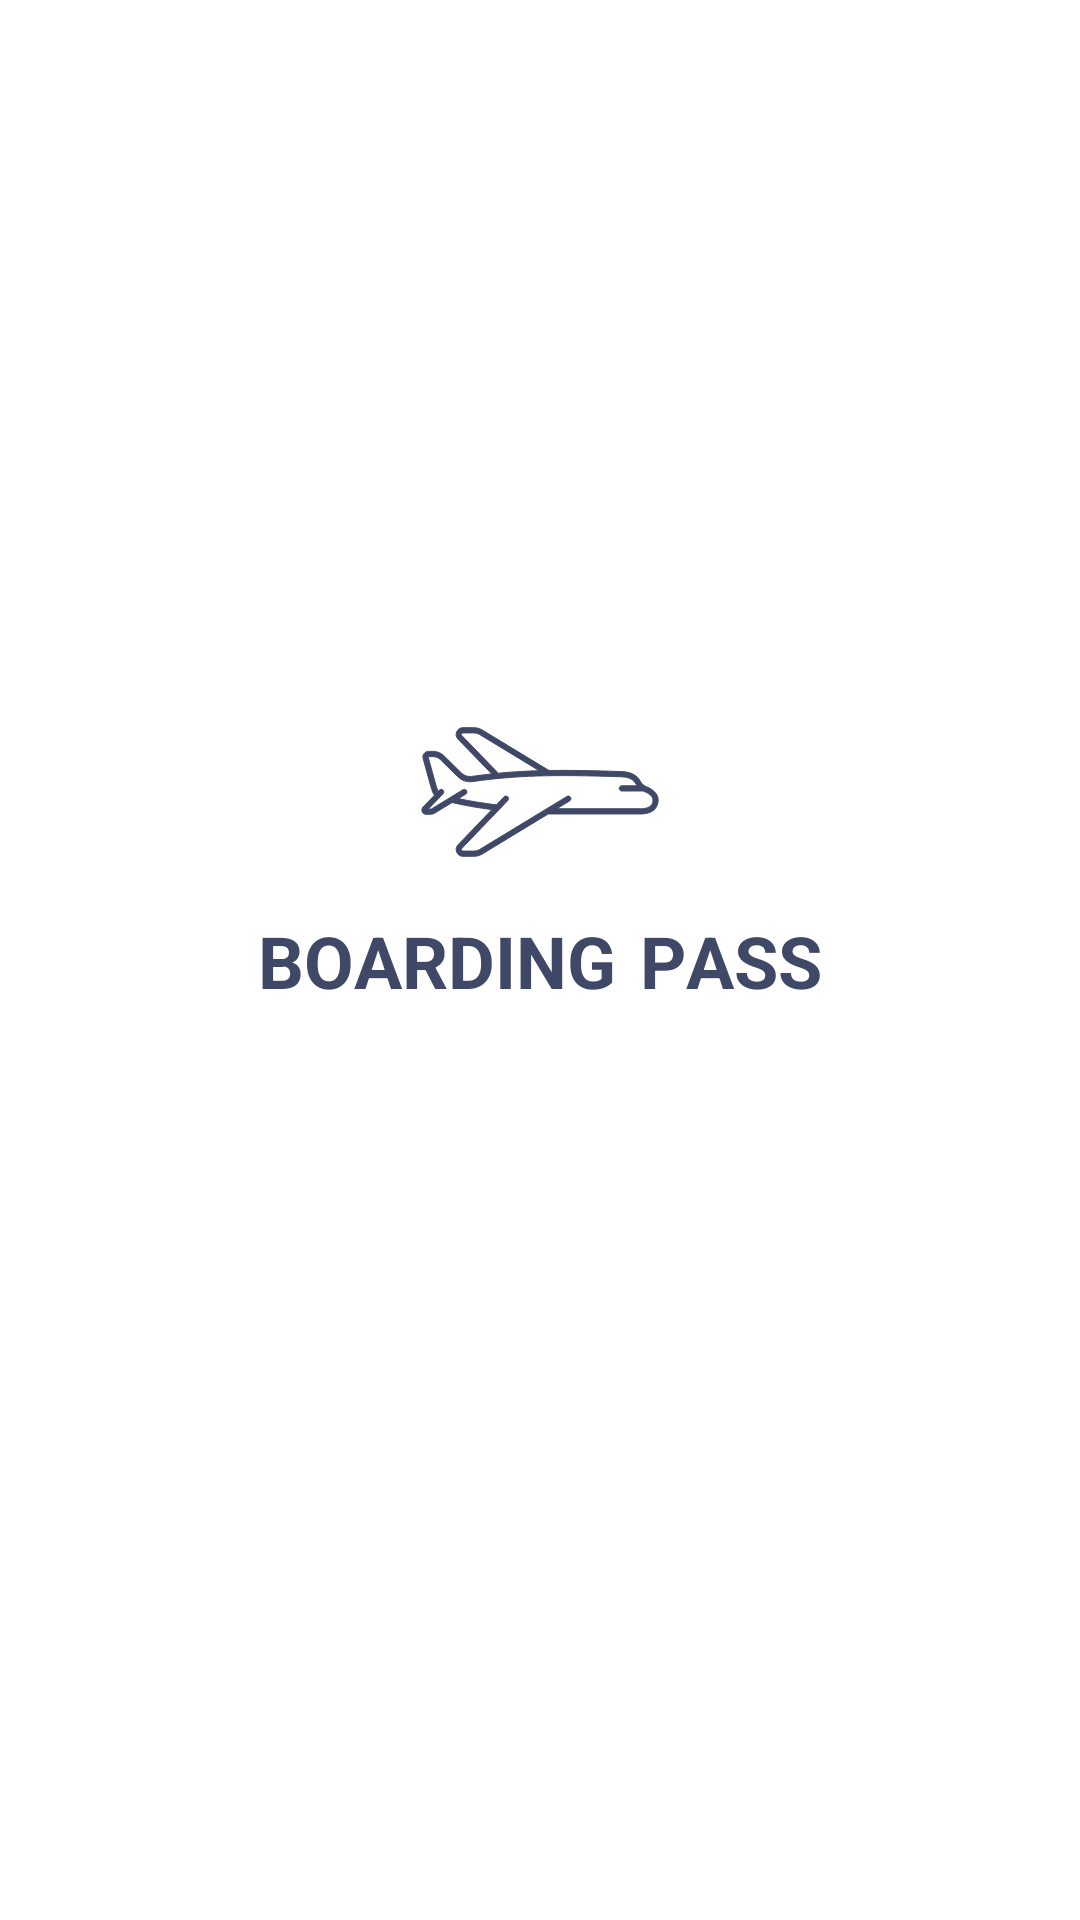

Named icons in this screenshot (1080×1920) and their bounding boxes, (x1, y1, x2, y2):
plane: (421, 727, 659, 857)
